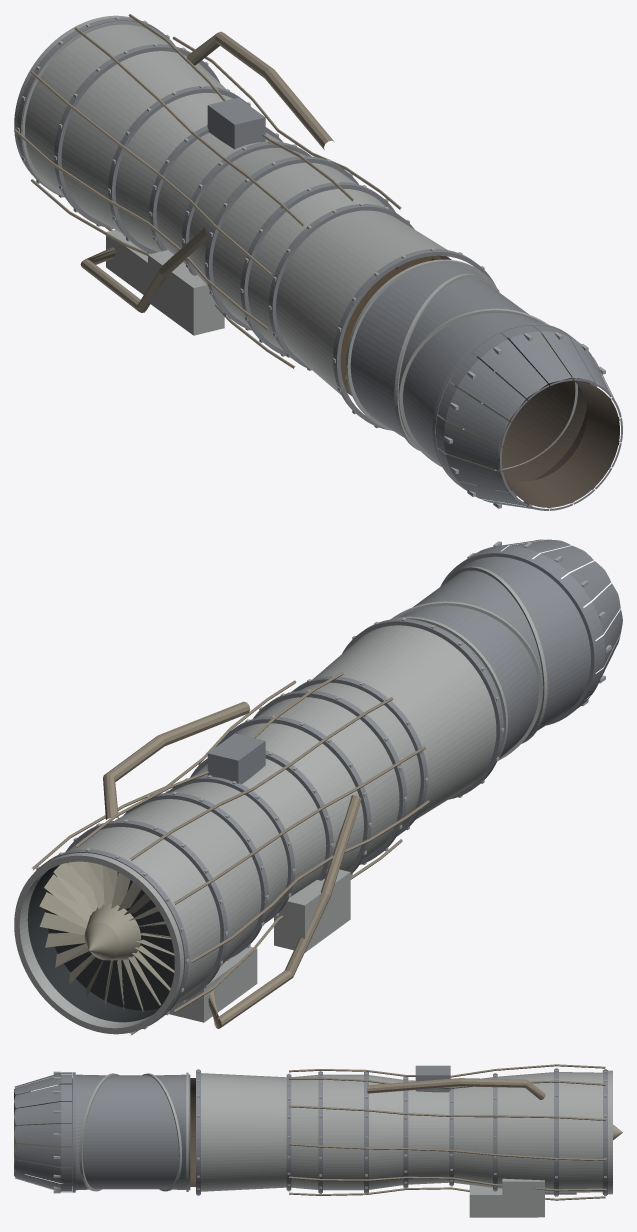
File: F135-PW-600-full.glb
The picture shows the model from 3 angles, top to bottom: view 1: azimuth 30°, elevation 25°; view 2: azimuth 150°, elevation 25°; view 3: azimuth 270°, elevation 25°; orthographic projection. The views are drawn at different scales.
Visible parts, largest first — view 1: F135_ExternalCasing, F135_CasingFlanges, F135_OuterPanels, F135_ExternalPlumbing, F135_ForwardSwivelShell, F135_Accessories, F135_FlowPath, F135_AftSwivelShell, F135_MiddleLiner, F135_MiddleSwivelShell, F135_ForwardBearingRings, F135_MountsAndDriveHousing (+5 smaller); view 2: F135_ExternalCasing, F135_CasingFlanges, F135_ExternalPlumbing, F135_FanFace, F135_IntakeOccluder, F135_AftSwivelShell, F135_Accessories, F135_ForwardSwivelShell, F135_InletLip, F135_OuterPanels, F135_MiddleSwivelShell, F135_MountsAndDriveHousing (+3 smaller); view 3: F135_ExternalCasing, F135_MiddleSwivelShell, F135_OuterPanels, F135_ExternalPlumbing, F135_CasingFlanges, F135_Accessories, F135_ForwardSwivelShell, F135_AftSwivelShell, F135_ForwardBearingRings, F135_MountsAndDriveHousing, F135_InletLip, F135_AugmentorLiner (+4 smaller).
Part boxes in pixels (bbox=[...]): F135_ExternalCasing: bbox=[25, 24, 446, 394]; F135_CasingFlanges: bbox=[17, 17, 495, 430]; F135_OuterPanels: bbox=[436, 325, 622, 510]; F135_ExternalPlumbing: bbox=[14, 14, 401, 368]; F135_ForwardSwivelShell: bbox=[350, 263, 481, 437]; F135_Accessories: bbox=[16, 17, 499, 428]; F135_FlowPath: bbox=[494, 377, 619, 507]; F135_AftSwivelShell: bbox=[403, 313, 539, 464]; F135_MiddleLiner: bbox=[447, 333, 575, 469]; F135_MiddleSwivelShell: bbox=[398, 277, 528, 442]; F135_ForwardBearingRings: bbox=[346, 259, 499, 450]; F135_MountsAndDriveHousing: bbox=[207, 97, 265, 149]; F135_ExternalCasing: bbox=[67, 625, 496, 1001]; F135_CasingFlanges: bbox=[34, 618, 503, 1026]; F135_ExternalPlumbing: bbox=[31, 672, 429, 1035]; F135_FanFace: bbox=[39, 861, 174, 1011]; F135_IntakeOccluder: bbox=[27, 862, 174, 1022]; F135_AftSwivelShell: bbox=[459, 556, 590, 730]; F135_Accessories: bbox=[36, 618, 504, 1029]; F135_ForwardSwivelShell: bbox=[399, 605, 538, 758]; F135_InletLip: bbox=[14, 853, 183, 1034]; F135_OuterPanels: bbox=[469, 539, 622, 708]; F135_MiddleSwivelShell: bbox=[413, 570, 543, 736]; F135_MountsAndDriveHousing: bbox=[207, 733, 265, 784]; F135_ExternalCasing: bbox=[201, 1072, 602, 1192]; F135_MiddleSwivelShell: bbox=[82, 1075, 178, 1189]; F135_OuterPanels: bbox=[14, 1072, 71, 1192]; F135_ExternalPlumbing: bbox=[289, 1064, 605, 1200]; F135_CasingFlanges: bbox=[196, 1069, 607, 1195]; F135_Accessories: bbox=[197, 1068, 606, 1217]; F135_ForwardSwivelShell: bbox=[155, 1074, 190, 1190]; F135_AftSwivelShell: bbox=[75, 1074, 106, 1190]; F135_ForwardBearingRings: bbox=[143, 1072, 188, 1191]; F135_MountsAndDriveHousing: bbox=[415, 1065, 576, 1194]; F135_InletLip: bbox=[602, 1070, 612, 1194]; F135_AugmentorLiner: bbox=[190, 1078, 195, 1186].
Bounding box in the file's own units: 1.25 × 1.42 × 5.58.
